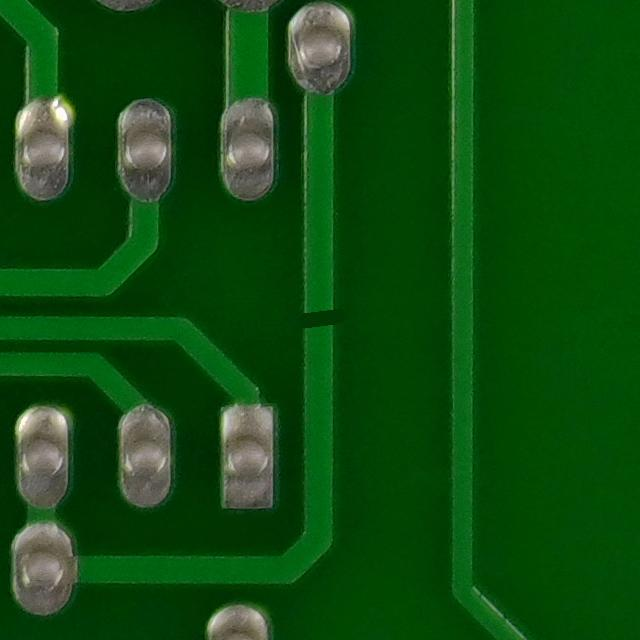open_circuit: (286, 294, 354, 347)
